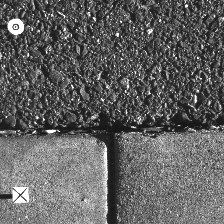circle: (6, 18, 25, 35)
crack: (1, 120, 224, 136)
square: (12, 187, 29, 203)
